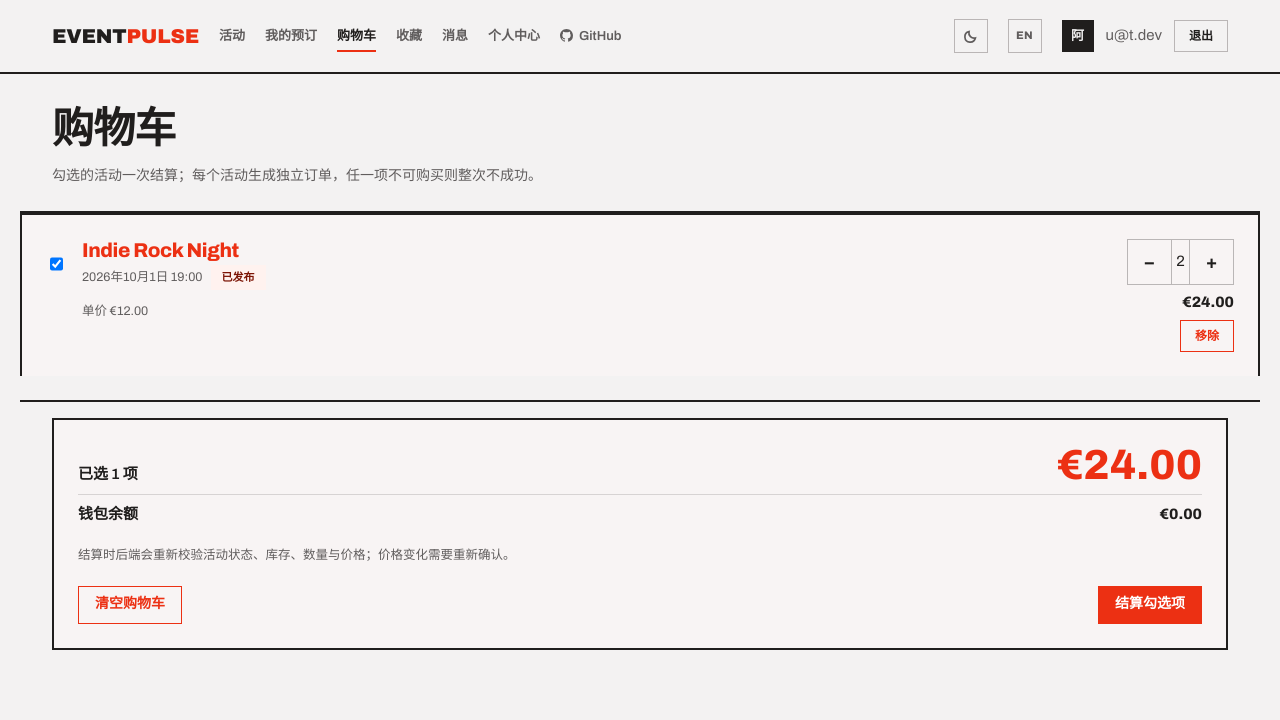
Test: CartPage › shows items with totals and supports removing them
Expected: the link "Indie Rock Night" is shown, [82,239,239,261]
Expected: the text "€24.00" is shown 2 times, [1182,291,1234,314]; [1057,444,1202,486]
Click the button "移除" at (1207, 336), box [1180,320,1234,352]
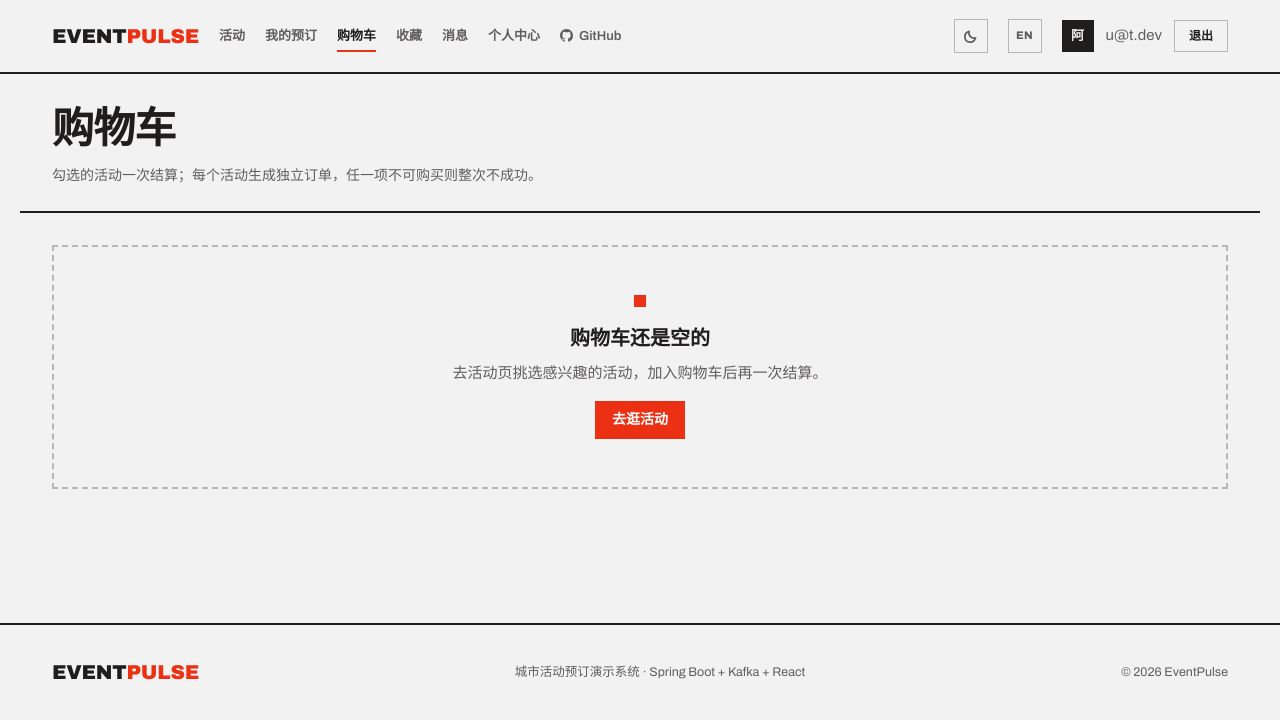
Now the text "购物车还是空的" is shown, box [570,327,710,349]
